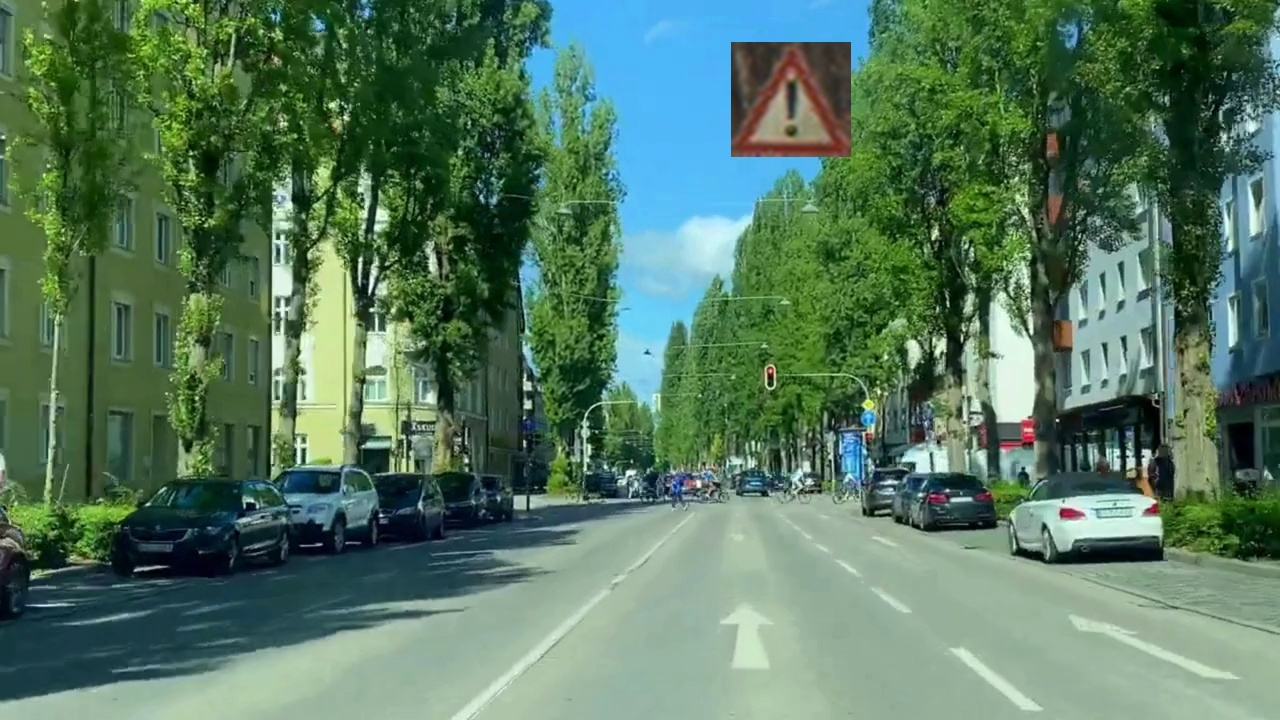Caution: (731, 42, 851, 157)
